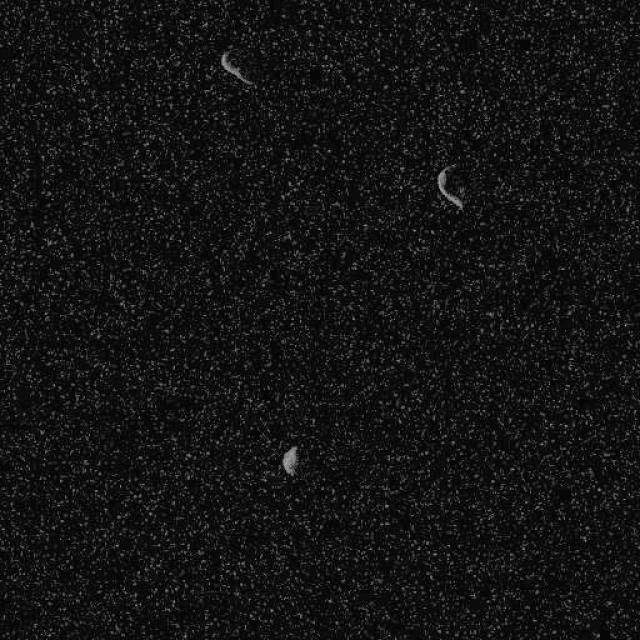D2: (435, 162, 465, 212), (219, 48, 255, 88), (280, 445, 299, 477)
